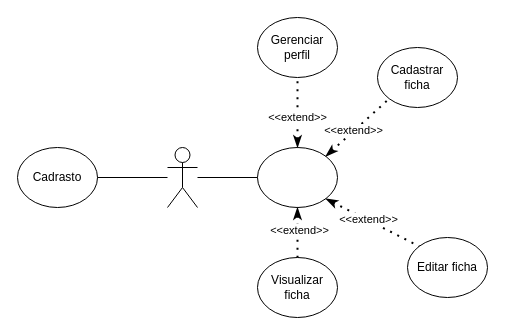
Image size: 505x335. Some labels were removed from this diagram. The centre of each missing label's shape, as x and y in pixels:
"Atleta" goes at point 182,177.
"Login" goes at point 297,177.
